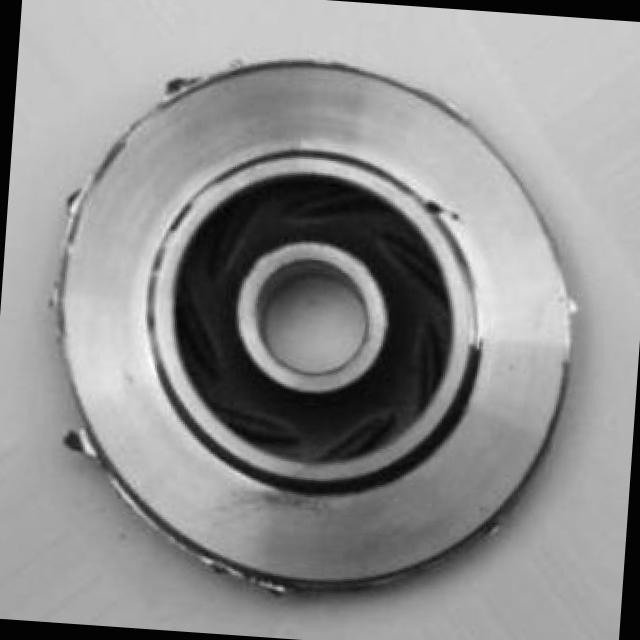Defect: (420, 194, 457, 220)
